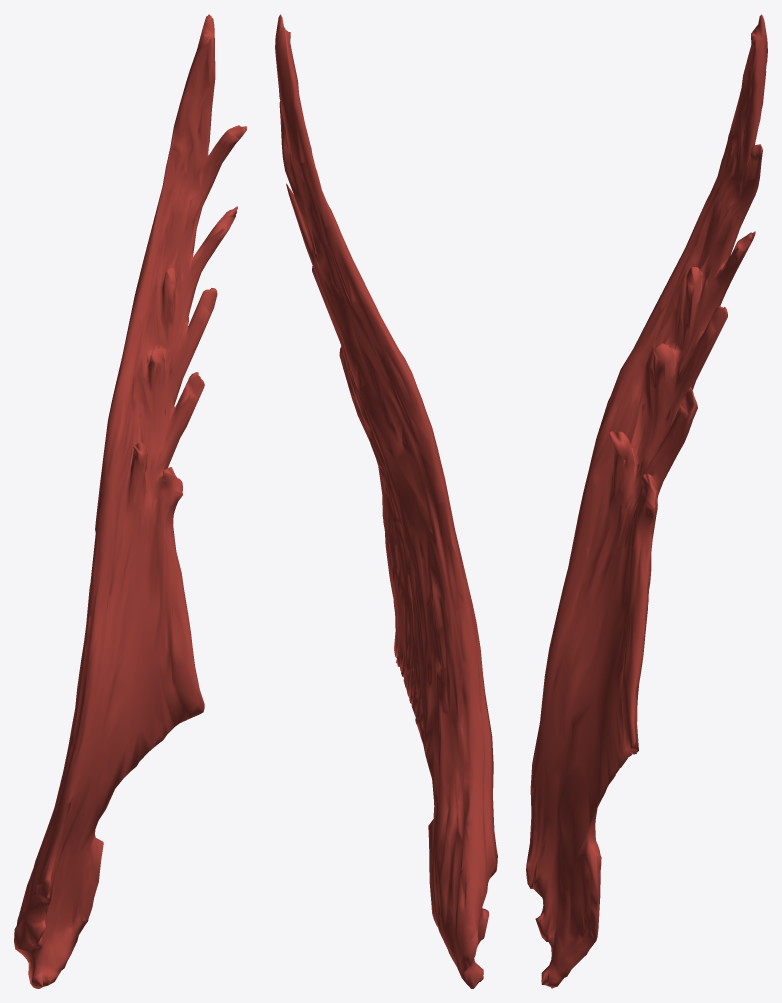
The model's file is musculos-iliocostalis-lumborum-muscle-l.glb.
3 renders of one model, left to right at view 1: azimuth 30°, elevation 25°; view 2: azimuth 150°, elevation 25°; view 3: azimuth 330°, elevation 25°, orthographic. The views are drawn at different scales.
Parts seen in each view (by area): view 1: Iliocostalis lumborum muscle.l; view 2: Iliocostalis lumborum muscle.l; view 3: Iliocostalis lumborum muscle.l.
Boxes of the visible parts, x1,y1,x2,y2 form: Iliocostalis lumborum muscle.l: [14, 14, 246, 988]; Iliocostalis lumborum muscle.l: [275, 14, 497, 988]; Iliocostalis lumborum muscle.l: [526, 14, 767, 988].
Size of the model in its own units: 0.0945 by 0.3903 by 0.0475.
